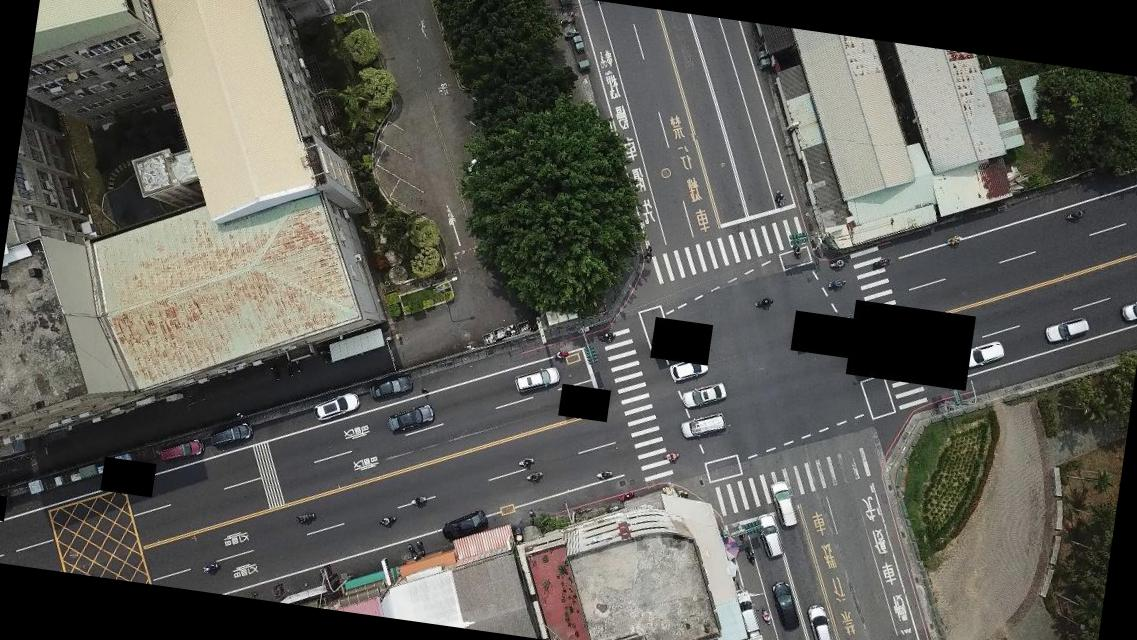vehicle: (439, 504, 492, 548), (728, 589, 770, 639), (384, 399, 436, 439), (766, 580, 805, 633), (676, 408, 730, 446), (312, 388, 362, 428), (766, 479, 804, 531), (957, 335, 1008, 373), (1044, 312, 1094, 350), (208, 416, 256, 454), (753, 512, 789, 562), (514, 362, 564, 398), (679, 378, 730, 413), (155, 434, 206, 468), (368, 369, 416, 405), (666, 352, 713, 388), (802, 602, 840, 639), (1116, 298, 1136, 324)
